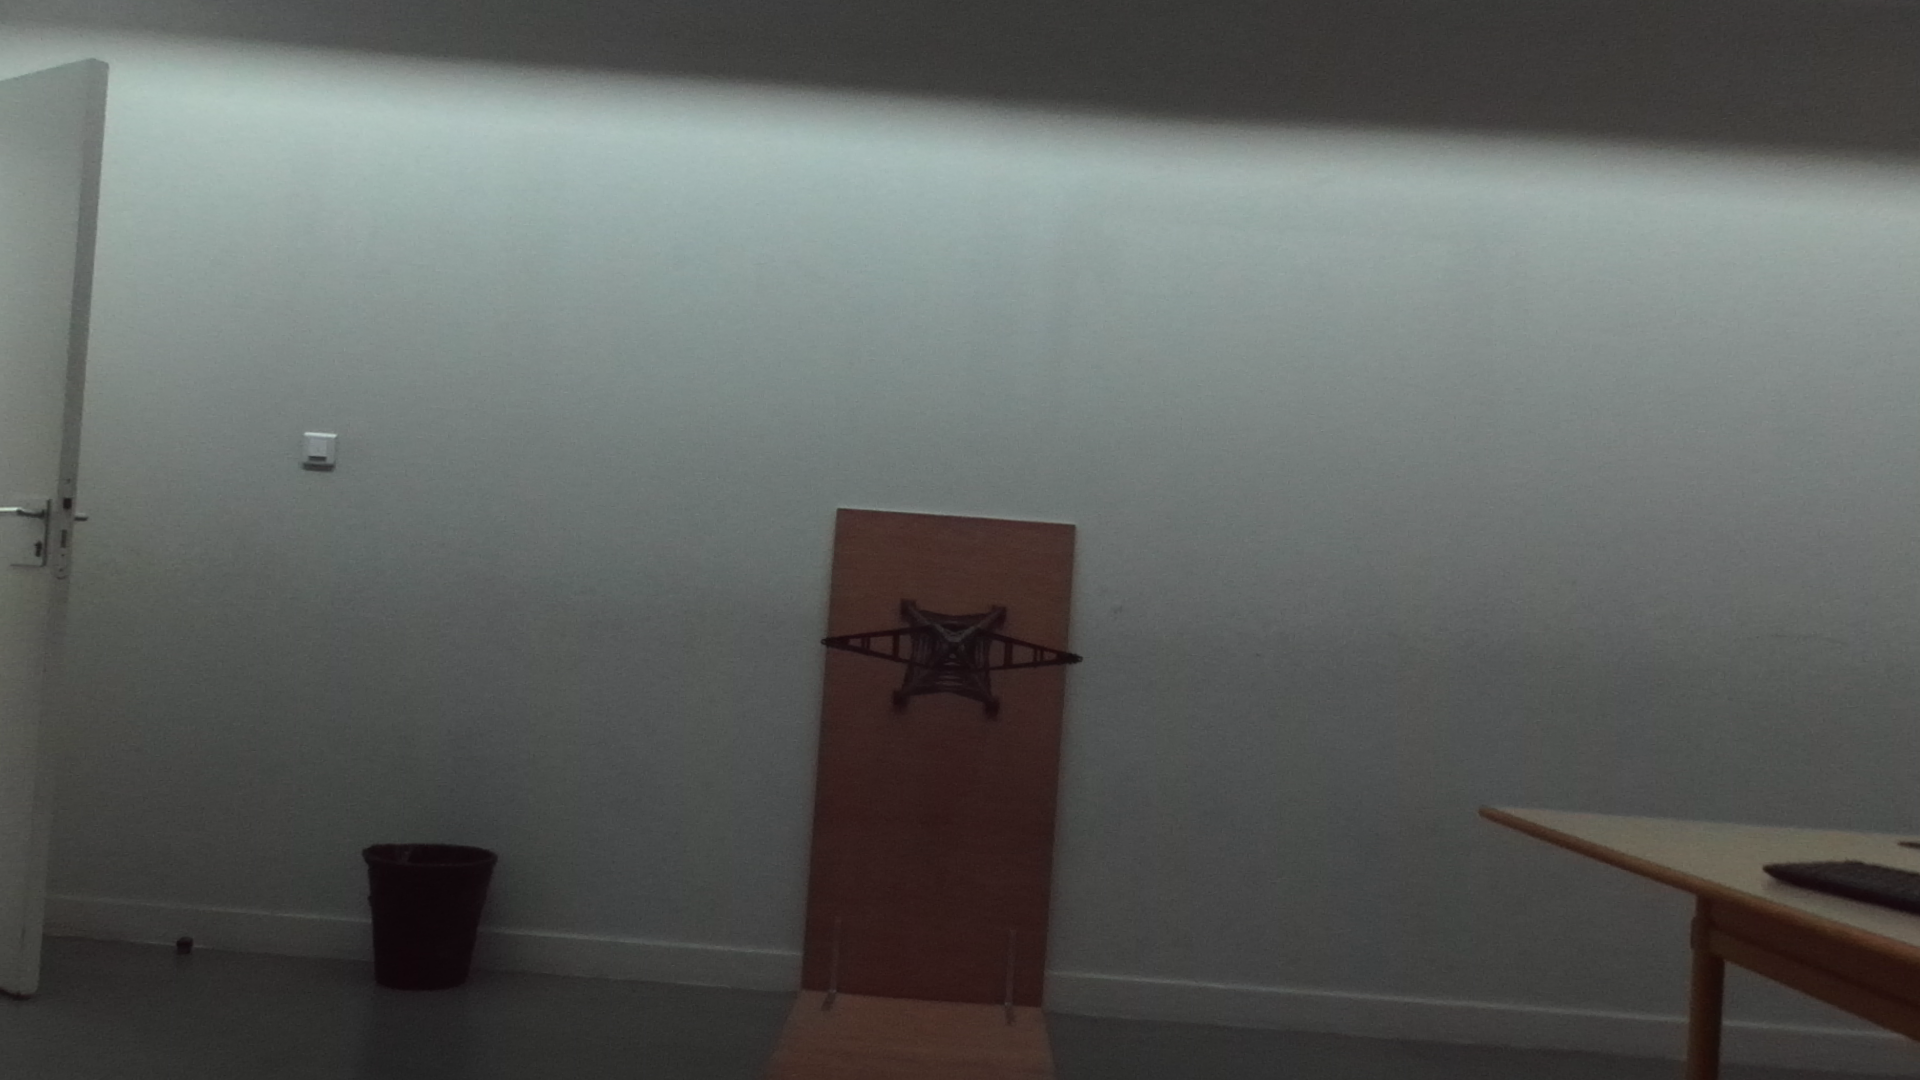pylon_phy: (820, 622, 1087, 675)
